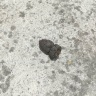Dog: (38, 39, 62, 57)
